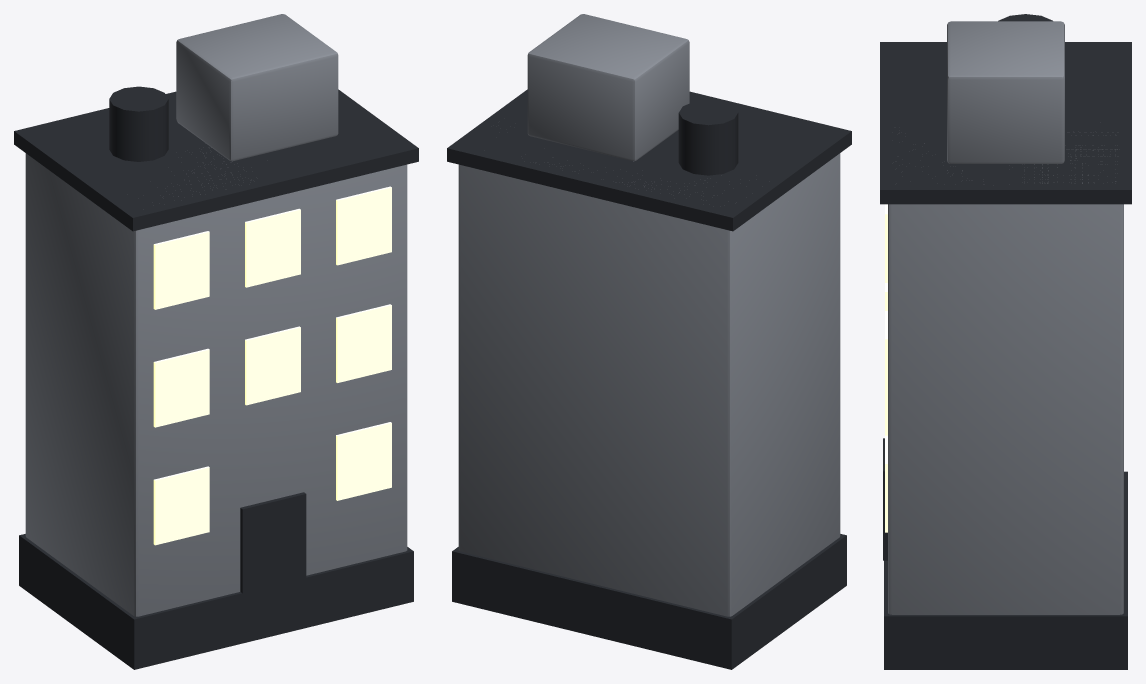
The model's file is predio-17x27.glb.
3 views of the same model, side by side, from view 1: azimuth 30°, elevation 25°; view 2: azimuth 150°, elevation 25°; view 3: azimuth 270°, elevation 25° (orthographic). The views are drawn at different scales.
Visible parts, largest first — view 1: corpo, cornija, embasamento, casa-de-maquinas, porta, caixa-dagua, janela.002, janela.003, janela.001, janela.004, janela.005, janela.008 (+2 smaller); view 2: corpo, cornija, embasamento, casa-de-maquinas, caixa-dagua; view 3: corpo, cornija, casa-de-maquinas, embasamento.
Boxes of the visible parts, <box> form: corpo: <box>25,153,407,616</box>; cornija: <box>14,89,418,231</box>; embasamento: <box>19,534,413,669</box>; casa-de-maquinas: <box>176,14,338,161</box>; porta: <box>240,492,306,593</box>; caixa-dagua: <box>109,86,168,161</box>; janela.002: <box>153,348,209,427</box>; janela.003: <box>153,231,209,309</box>; janela.001: <box>153,466,209,545</box>; janela.004: <box>245,326,300,405</box>; janela.005: <box>245,208,300,287</box>; janela.008: <box>336,186,391,265</box>; corpo: <box>458,153,840,616</box>; cornija: <box>447,89,851,231</box>; embasamento: <box>452,534,846,669</box>; casa-de-maquinas: <box>527,14,689,161</box>; caixa-dagua: <box>678,100,738,175</box>; corpo: <box>888,135,1123,614</box>; cornija: <box>880,42,1131,204</box>; casa-de-maquinas: <box>947,21,1064,163</box>; embasamento: <box>884,471,1127,669</box>.
Size of the model in its own units: 1.78 by 3.2 by 1.28.
